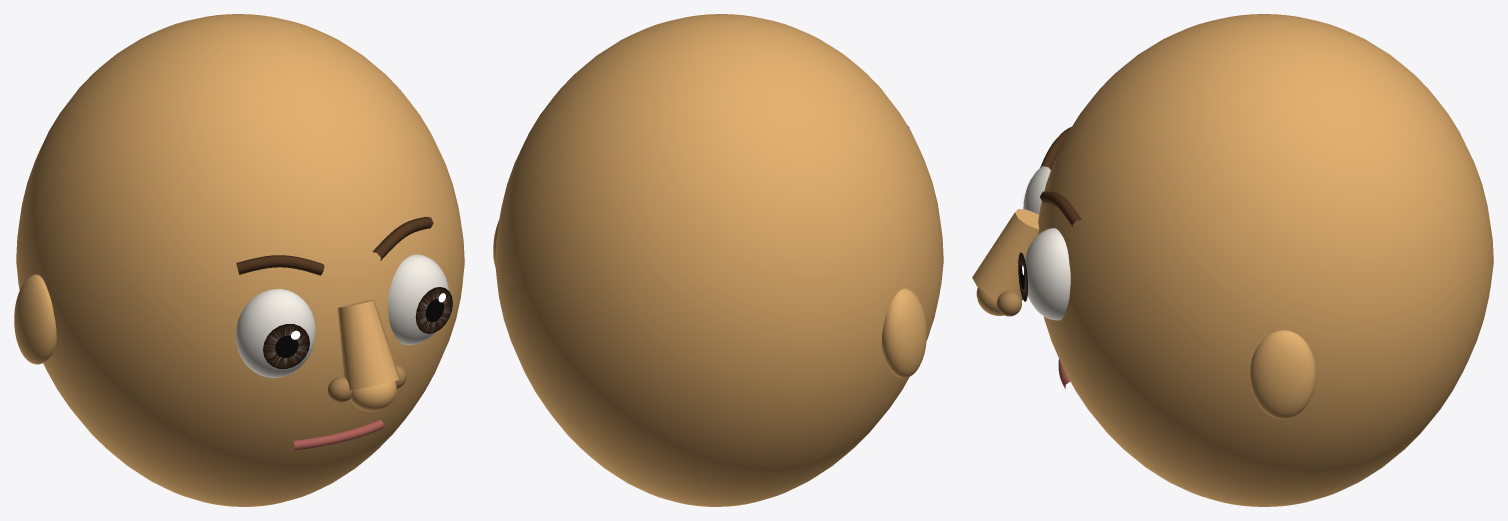
Rendered from 03-large.glb.
3 views of the same model, side by side, from view 1: azimuth 30°, elevation 25°; view 2: azimuth 150°, elevation 25°; view 3: azimuth 270°, elevation 25° (orthographic).
Bounding box in the file's own units: 0.3087 × 0.321 × 0.3305.
9 materials, 1 textured.
